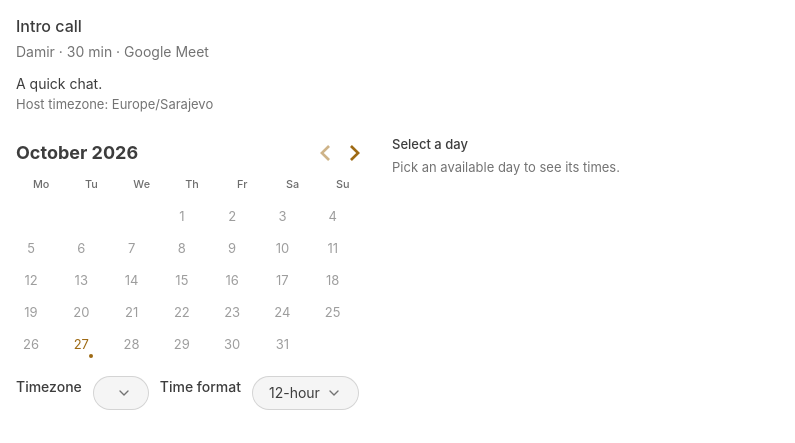
Test: PublicBookingPage — the booking form (#326) › shows a message and lets the visitor pick again when the slot was just taken
Expected: the heading "Intro call" is shown, [16,16,82,36]
Click the button "27" at [81, 345], box [66,330,96,360]
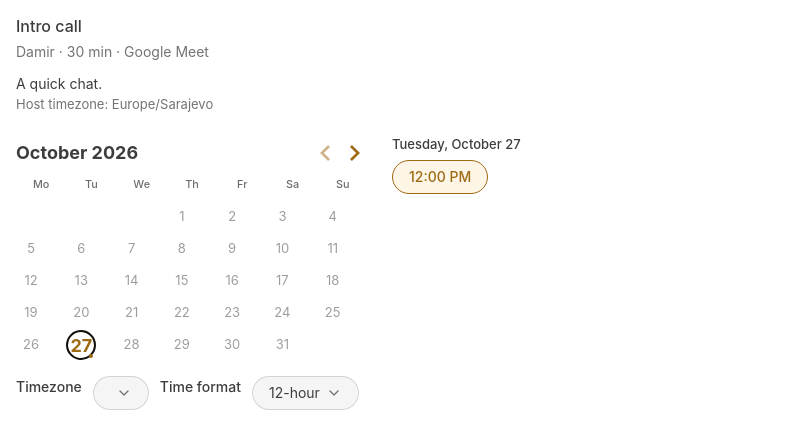
Click the button "12:00 PM" at [440, 177], box [392,160,488,194]
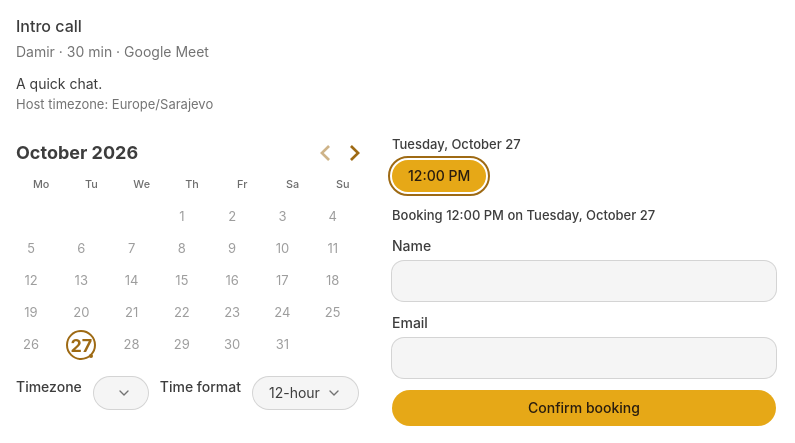
Type "Bob Visitor" into the field labelled "Name" at [584, 281], box [392,261,776,301]
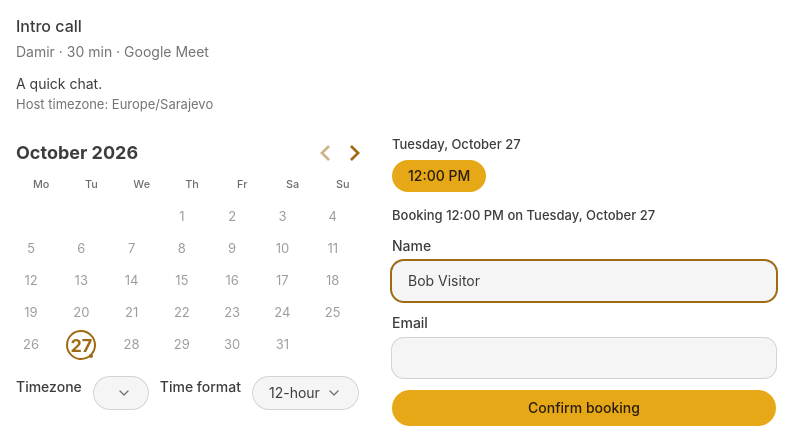
Type "bob@example.com" into the field labelled "Email" at [584, 358], box [392,338,776,378]
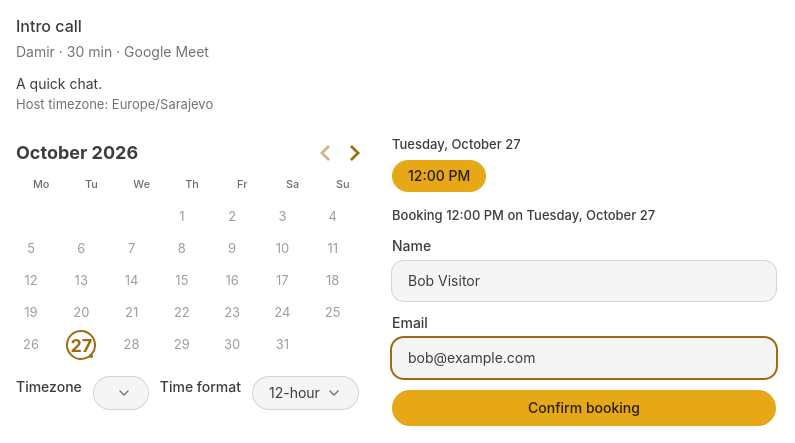
Click the button "Confirm booking" at [584, 408], box [392,390,776,426]
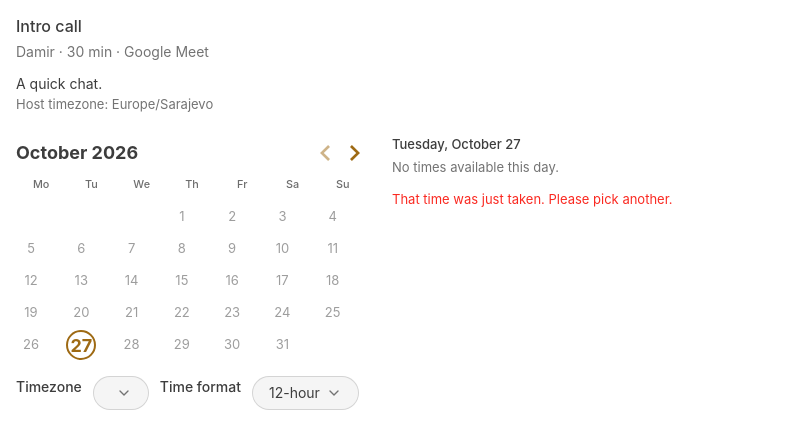
Result: the message "That time was just taken. Please pick another." is shown at [392,191,672,207]
Result: the label labelled "Name" is gone
